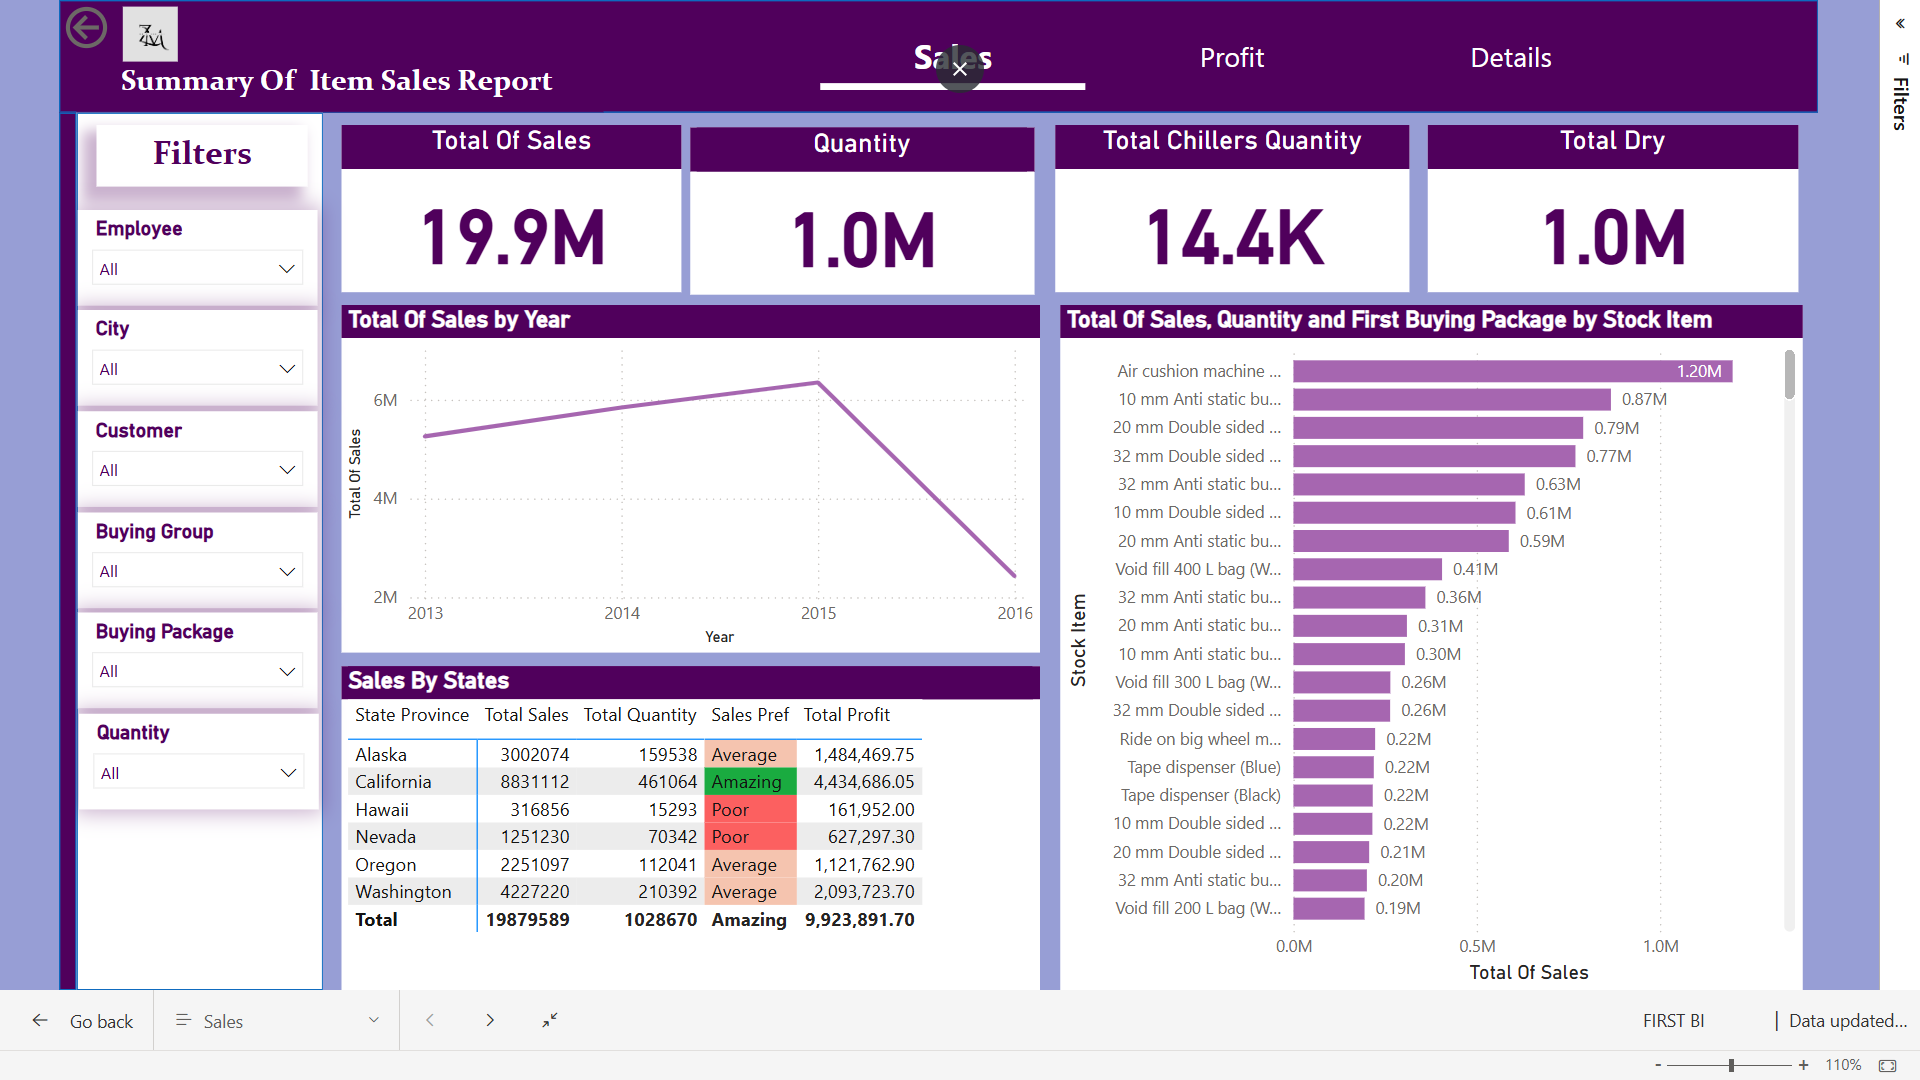

What the dashboard file says about the page in this screenshot:
{"tool":"powerbi","page":{"name":"Sales","canvas":[1280,720],"ordinal":0},"visuals":[{"type":"shape","box":[0,0,1279.5,82.1],"z":0},{"type":"shape","box":[0,82.1,12.8,638.5],"z":1000},{"type":"shape","box":[12.8,82.1,179.5,638.5],"z":2000},{"type":"textbox","box":[12.8,41,383.3,41],"z":3000},{"type":"image","box":[0,0,132.1,50],"z":4000},{"type":"card","title":"Total Of Sales ","fields":{"Values":["Sum(FactSale.Total Excluding Tax)"]},"box":[205.1,91,247.4,121.8],"z":5000},{"type":"textbox","box":[26.9,91,153.8,44.9],"z":6000},{"type":"lineChart","fields":{"Category":["DimData.Date.Variation.Date Hierarchy.Year","DimData.Date.Variation.Date Hierarchy.Quarter","DimData.Date.Variation.Date Hierarchy.Month","DimData.Date.Variation.Date Hierarchy.Day"],"Y":["Sum(FactSale.Total Excluding Tax)"]},"box":[205.1,221.8,507.7,252.6],"z":7000},{"type":"barChart","fields":{"Y":["Sum(FactSale.Total Excluding Tax)"],"Category":["DimStockItem.Stock Item"]},"box":[728.2,221.8,539.7,498.7],"z":8000},{"type":"pivotTable","title":"Sales By States","fields":{"Values":["Sum(FactSale.Total Excluding Tax)","Sum(FactSale.Quantity)","FactSale.sales pref","Sum(FactSale.Profit)"],"Rows":["DimCity.State Province"]},"box":[205.1,484.6,507.7,235.9],"z":9000},{"type":"slicer","fields":{"Values":["DimEmployee.Employee"]},"box":[14,152.6,174,69.2],"z":10000},{"type":"slicer","fields":{"Values":["DimCity.City"]},"box":[13.8,225.9,174.4,69.2],"z":11000},{"type":"slicer","fields":{"Values":["DimCustomer.Customer"]},"box":[13.8,299.2,174.4,69.2],"z":12000},{"type":"slicer","fields":{"Values":["DimCustomer.Buying Group"]},"box":[13.8,372.6,174.4,69.2],"z":13000},{"type":"slicer","fields":{"Values":["DimStockItem.Buying Package"]},"box":[13.8,445.9,174.4,69.2],"z":14000},{"type":"slicer","fields":{"Values":["FactSale.Quantity"]},"box":[14.1,519.2,174.4,69.2],"z":15000},{"type":"card","title":"Quantity","fields":{"Values":["Sum(FactSale.Quantity)"]},"box":[459,92.3,250,121.8],"z":16000},{"type":"card","title":" Total Chillers Quantity","fields":{"Values":["Sum(FactSale.Total Chiller Items)"]},"box":[724.9,90.8,257.7,121.8],"z":17000},{"type":"card","title":" Total Dry ","fields":{"Values":["Sum(FactSale.Total Dry Items)"]},"box":[995.4,90.8,269.2,121.8],"z":18000},{"type":"pageNavigator","box":[553.8,15.4,600,50],"z":19000},{"type":"actionButton","box":[0,0,100,40],"z":20000}]}

Visuals, with their boxes on the page's 1280x720 design canvas (x1, y1, x2, y2). These are canvas units, not pixel positions in the 1920x1080 screenshot, which may show the page scaled, cropped or inside an application window:
shape: {"left": 0, "top": 0, "right": 1280, "bottom": 82}
shape: {"left": 0, "top": 82, "right": 13, "bottom": 721}
shape: {"left": 13, "top": 82, "right": 192, "bottom": 721}
textbox: {"left": 13, "top": 41, "right": 396, "bottom": 82}
image: {"left": 0, "top": 0, "right": 132, "bottom": 50}
"Total Of Sales " card: {"left": 205, "top": 91, "right": 452, "bottom": 213}
textbox: {"left": 27, "top": 91, "right": 181, "bottom": 136}
lineChart - DimData.Date.Variation.Date Hierarchy.Year x DimData.Date.Variation.Date Hierarchy.Quarter: {"left": 205, "top": 222, "right": 713, "bottom": 474}
barChart - Sum(FactSale.Total Excluding Tax) x DimStockItem.Stock Item: {"left": 728, "top": 222, "right": 1268, "bottom": 720}
"Sales By States" pivotTable: {"left": 205, "top": 485, "right": 713, "bottom": 720}
slicer - DimEmployee.Employee: {"left": 14, "top": 153, "right": 188, "bottom": 222}
slicer - DimCity.City: {"left": 14, "top": 226, "right": 188, "bottom": 295}
slicer - DimCustomer.Customer: {"left": 14, "top": 299, "right": 188, "bottom": 368}
slicer - DimCustomer.Buying Group: {"left": 14, "top": 373, "right": 188, "bottom": 442}
slicer - DimStockItem.Buying Package: {"left": 14, "top": 446, "right": 188, "bottom": 515}
slicer - FactSale.Quantity: {"left": 14, "top": 519, "right": 188, "bottom": 588}
"Quantity" card: {"left": 459, "top": 92, "right": 709, "bottom": 214}
" Total Chillers Quantity" card: {"left": 725, "top": 91, "right": 983, "bottom": 213}
" Total Dry " card: {"left": 995, "top": 91, "right": 1265, "bottom": 213}
pageNavigator: {"left": 554, "top": 15, "right": 1154, "bottom": 65}
actionButton: {"left": 0, "top": 0, "right": 100, "bottom": 40}
